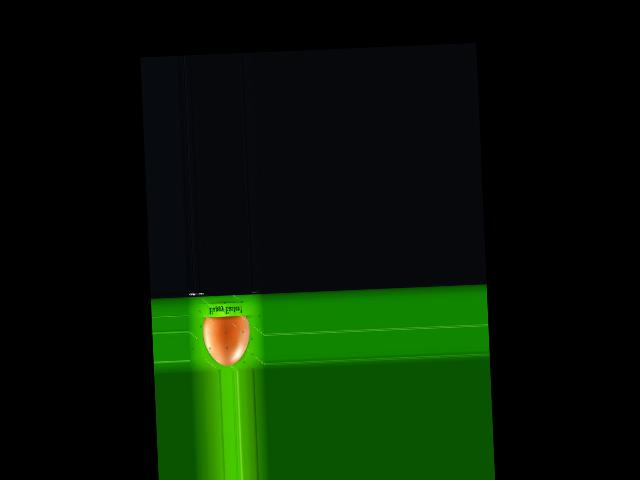egg: (202, 315, 251, 366)
